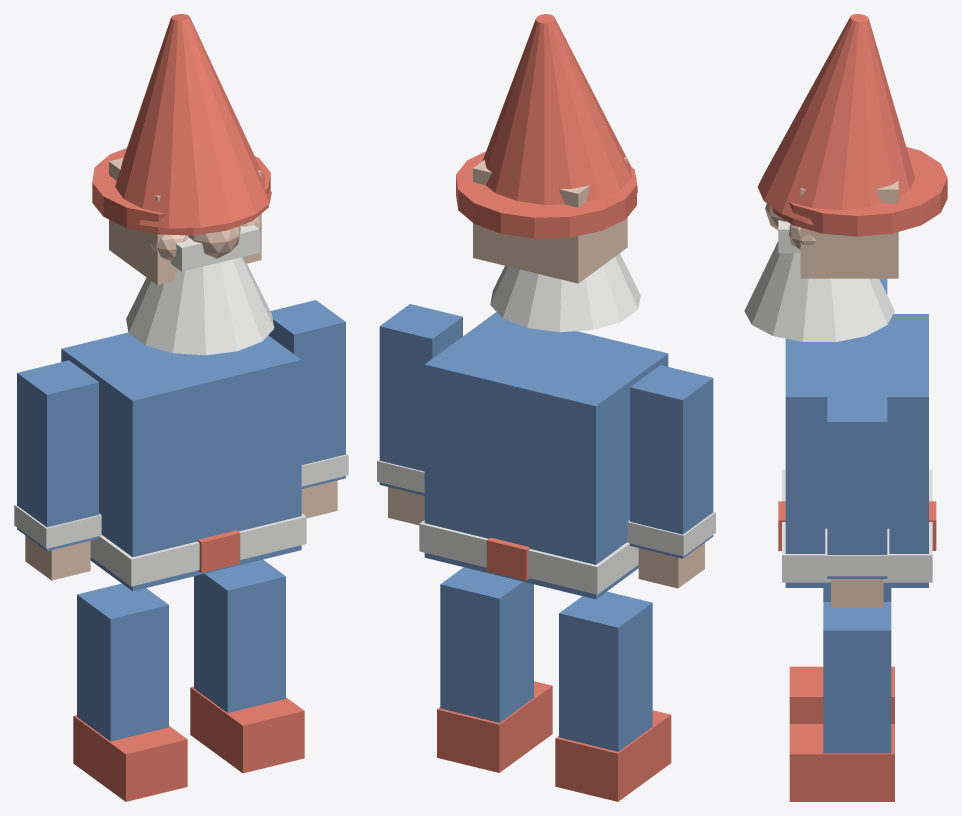
File: garden-gnome.glb
The picture shows the model from 3 angles, left to right: view 1: azimuth 30°, elevation 25°; view 2: azimuth 150°, elevation 25°; view 3: azimuth 270°, elevation 25°; orthographic projection.
Parts seen in each view (by area): view 1: TunicTorso, GnomeHatCone, Pants_L, Sleeve_L, Pants_R, GnomeBeard, Sleeve_R, Boot_L, Boot_R, GnomeBelt, GnomeHatBrim, GnomeFace (+8 smaller); view 2: TunicTorso, GnomeHatCone, Pants_L, Sleeve_L, Pants_R, Sleeve_R, GnomeBeard, GnomeHatBrim, GnomeFace, Boot_L, Boot_R, GnomeBelt (+5 smaller); view 3: TunicTorso, GnomeHatCone, Pants_R, Sleeve_R, GnomeBeard, Boot_R, GnomeHatBrim, GnomeFace, GnomeBelt, Boot_L, Cuff_R, Hand_R (+3 smaller).
Boxes of the visible parts, x1,y1,x2,y2 form: TunicTorso: [61, 332, 301, 591]; GnomeHatCone: [115, 14, 271, 228]; Pants_L: [77, 583, 168, 741]; Sleeve_L: [17, 360, 98, 551]; Pants_R: [194, 559, 285, 712]; GnomeBeard: [126, 257, 274, 355]; Sleeve_R: [268, 300, 345, 488]; Boot_L: [73, 715, 187, 801]; Boot_R: [190, 686, 304, 773]; GnomeBelt: [90, 513, 306, 586]; GnomeHatBrim: [92, 148, 270, 235]; GnomeFace: [109, 158, 261, 285]; TunicTorso: [424, 312, 668, 599]; GnomeHatCone: [482, 14, 637, 204]; Pants_L: [559, 591, 652, 751]; Sleeve_L: [630, 365, 713, 558]; Pants_R: [440, 567, 533, 722]; Sleeve_R: [379, 304, 462, 495]; GnomeBeard: [490, 253, 640, 332]; GnomeHatBrim: [456, 151, 636, 238]; GnomeFace: [473, 157, 627, 283]; Boot_L: [555, 710, 671, 801]; Boot_R: [437, 681, 552, 772]; GnomeBelt: [419, 520, 638, 594]; TunicTorso: [785, 314, 928, 587]; GnomeHatCone: [757, 14, 915, 224]; Pants_R: [823, 602, 891, 753]; Sleeve_R: [827, 396, 887, 578]; GnomeBeard: [744, 241, 894, 341]; Boot_R: [789, 724, 894, 801]; GnomeHatBrim: [771, 147, 947, 236]; GnomeFace: [800, 180, 898, 278]; GnomeBelt: [782, 469, 932, 582]; Boot_L: [789, 666, 894, 723]; Cuff_R: [825, 528, 889, 576]; Hand_R: [831, 579, 883, 607].
Size of the model in its own units: 0.93 by 2.17 by 0.54.
